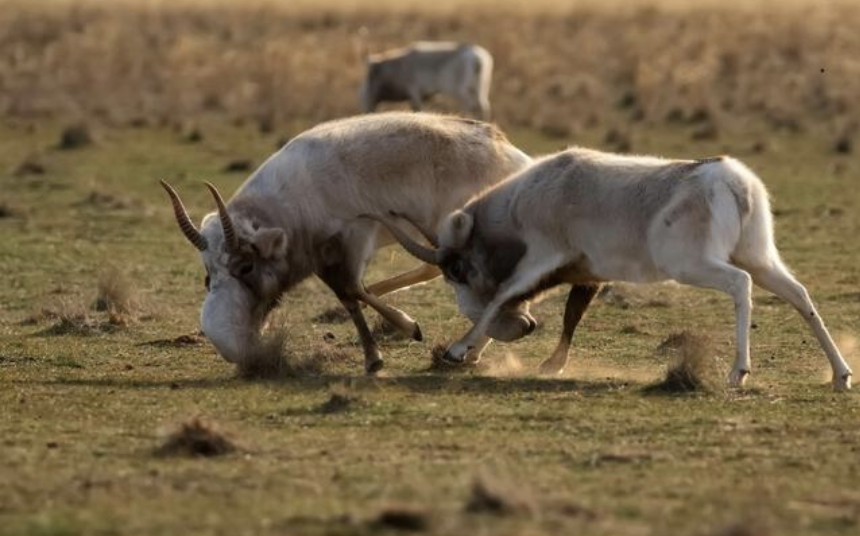saiga: (369, 135, 855, 399), (151, 110, 520, 364)
